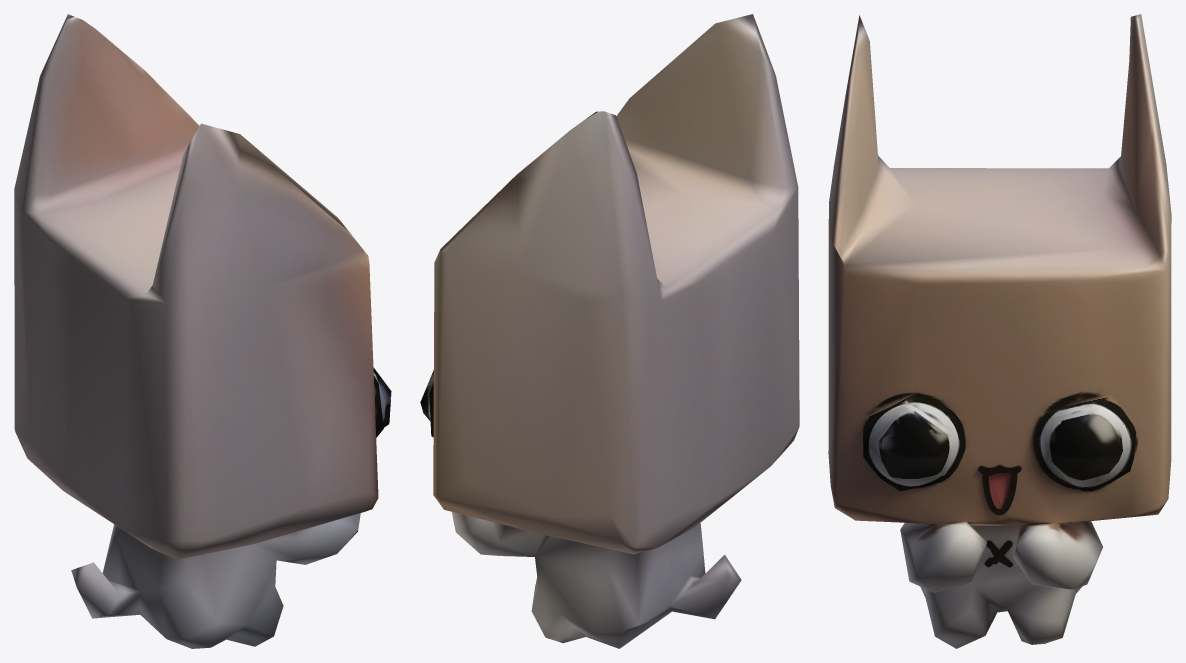
The model's file is crowd_b.glb.
The picture shows the model from 3 angles, left to right: view 1: azimuth 30°, elevation 25°; view 2: azimuth 150°, elevation 25°; view 3: azimuth 270°, elevation 25°; orthographic projection.
Parts seen in each view (by area): view 1: tripo_node_ab472e18-6804-474d-b4be-475ef77d047f; view 2: tripo_node_ab472e18-6804-474d-b4be-475ef77d047f; view 3: tripo_node_ab472e18-6804-474d-b4be-475ef77d047f.
Boxes of the visible parts, x1,y1,x2,y2 form: tripo_node_ab472e18-6804-474d-b4be-475ef77d047f: (14, 14, 391, 648); tripo_node_ab472e18-6804-474d-b4be-475ef77d047f: (420, 14, 799, 648); tripo_node_ab472e18-6804-474d-b4be-475ef77d047f: (828, 14, 1171, 648).
Bounding box in the file's own units: 0.4661 × 0.9932 × 0.5245.
1 material, 1 textured.
